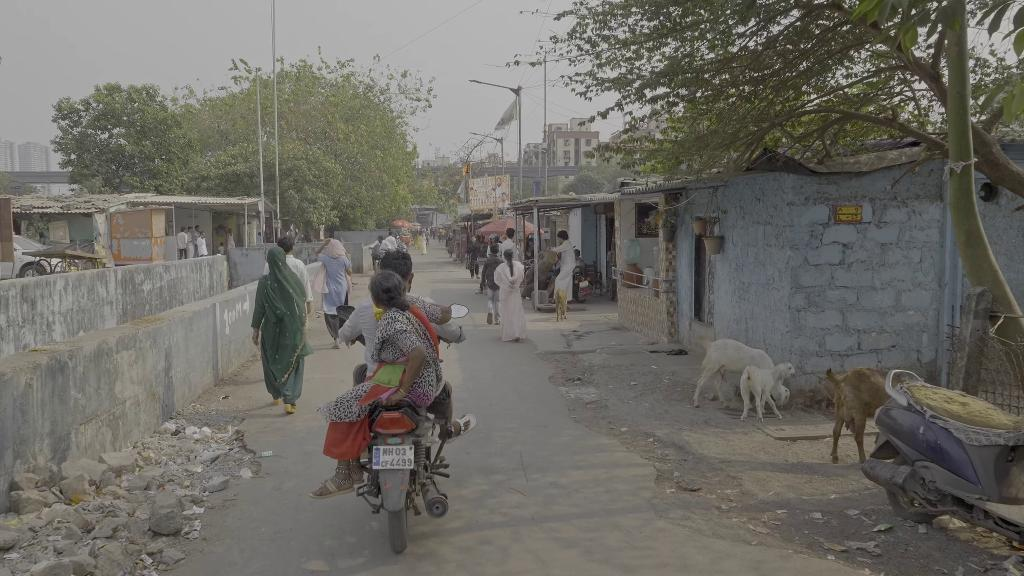dustbin: (237, 466, 254, 480), (870, 523, 893, 533)
garbage: (187, 424, 214, 446), (186, 516, 203, 542)
